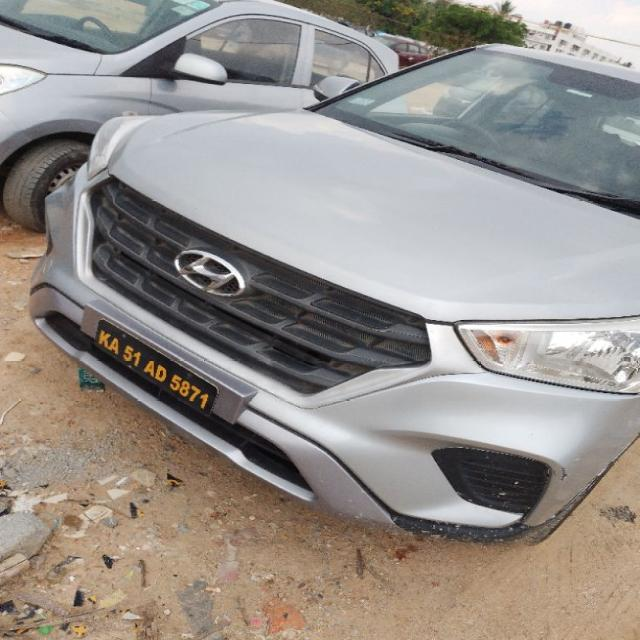license_plate: (92, 317, 220, 418)
